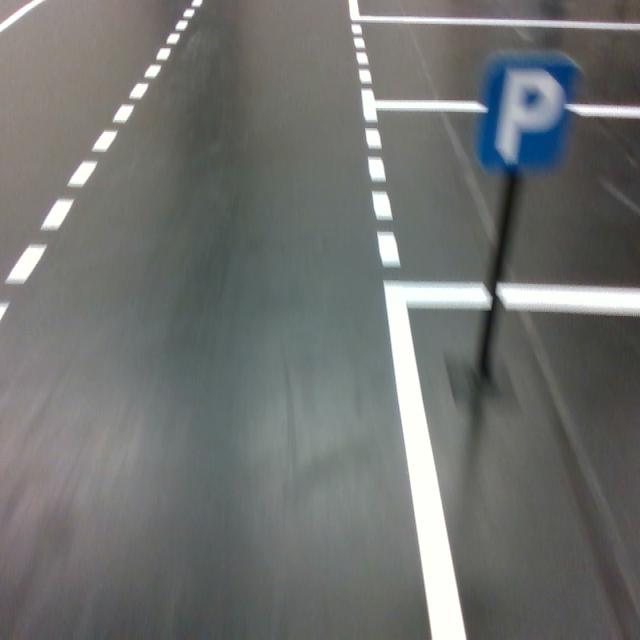parking-sign: (472, 48, 583, 175)
